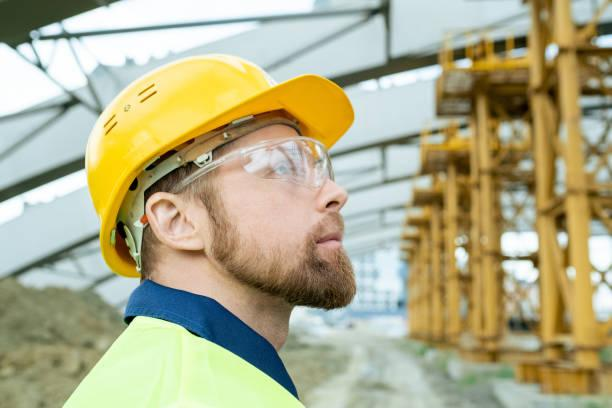goggle: (125, 123, 349, 242)
helmet: (61, 42, 371, 289)
vest: (46, 290, 316, 406)
